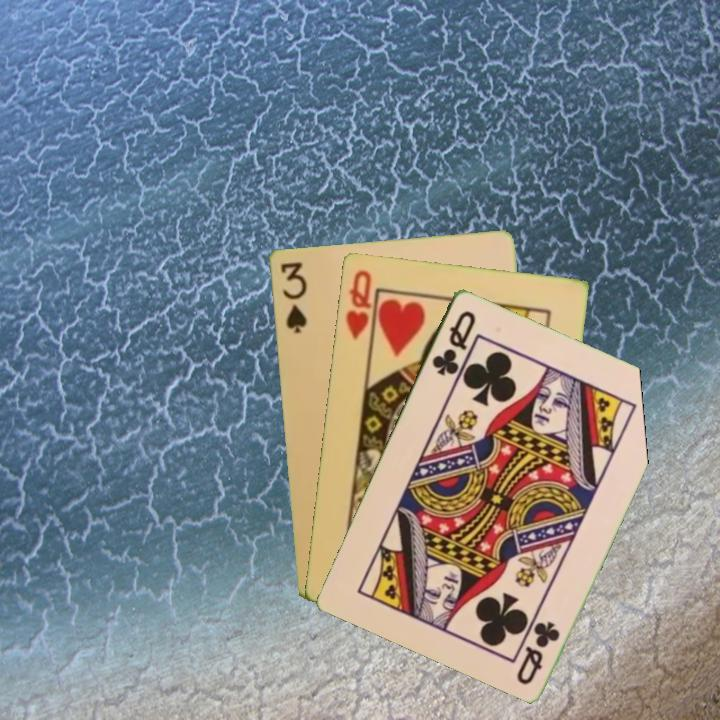3s: (276, 258, 310, 336)
Qc: (428, 306, 479, 379), (512, 617, 563, 687)
Qh: (342, 266, 374, 342)
